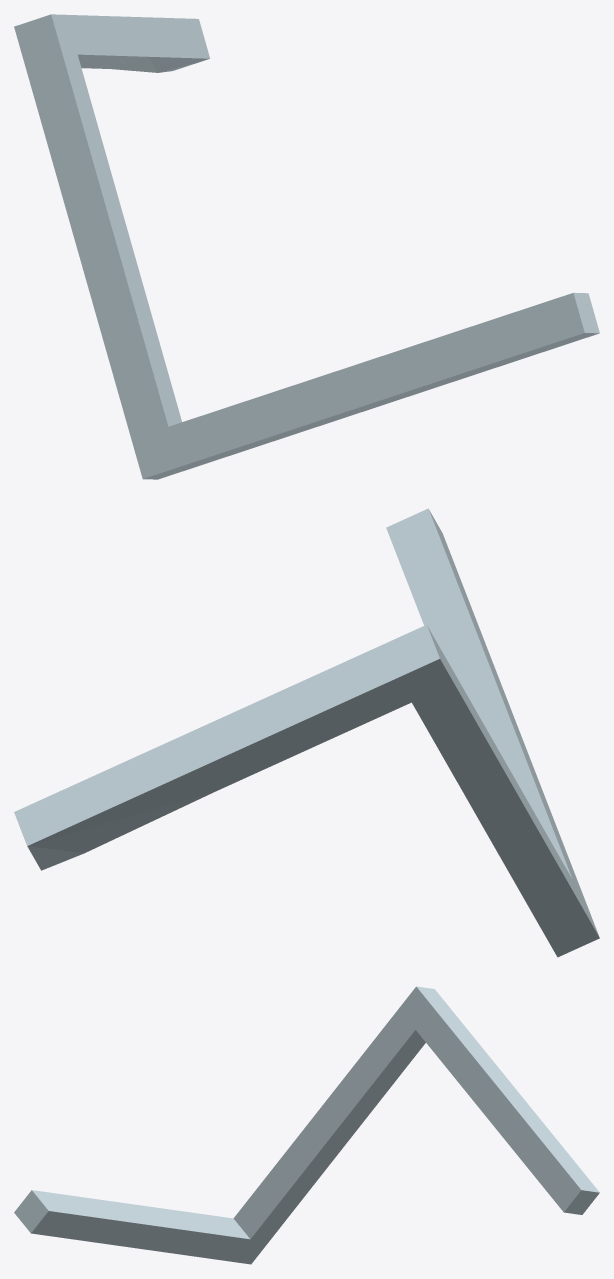
File: Triangle.gltf
3 views of the same model, one above another, from view 1: azimuth 30°, elevation 25°; view 2: azimuth 150°, elevation 25°; view 3: azimuth 270°, elevation 25° (orthographic). The views are drawn at different scales.
Visible parts, largest first — view 1: Box001; view 2: Box001; view 3: Box001.
Part boxes in pixels (left/top/right/bottom): Box001: left=14, top=14, right=599, bottom=479; Box001: left=14, top=508, right=599, bottom=957; Box001: left=14, top=986, right=599, bottom=1264.
Size of the model in its own units: 4.14 by 4.72 by 8.96.
